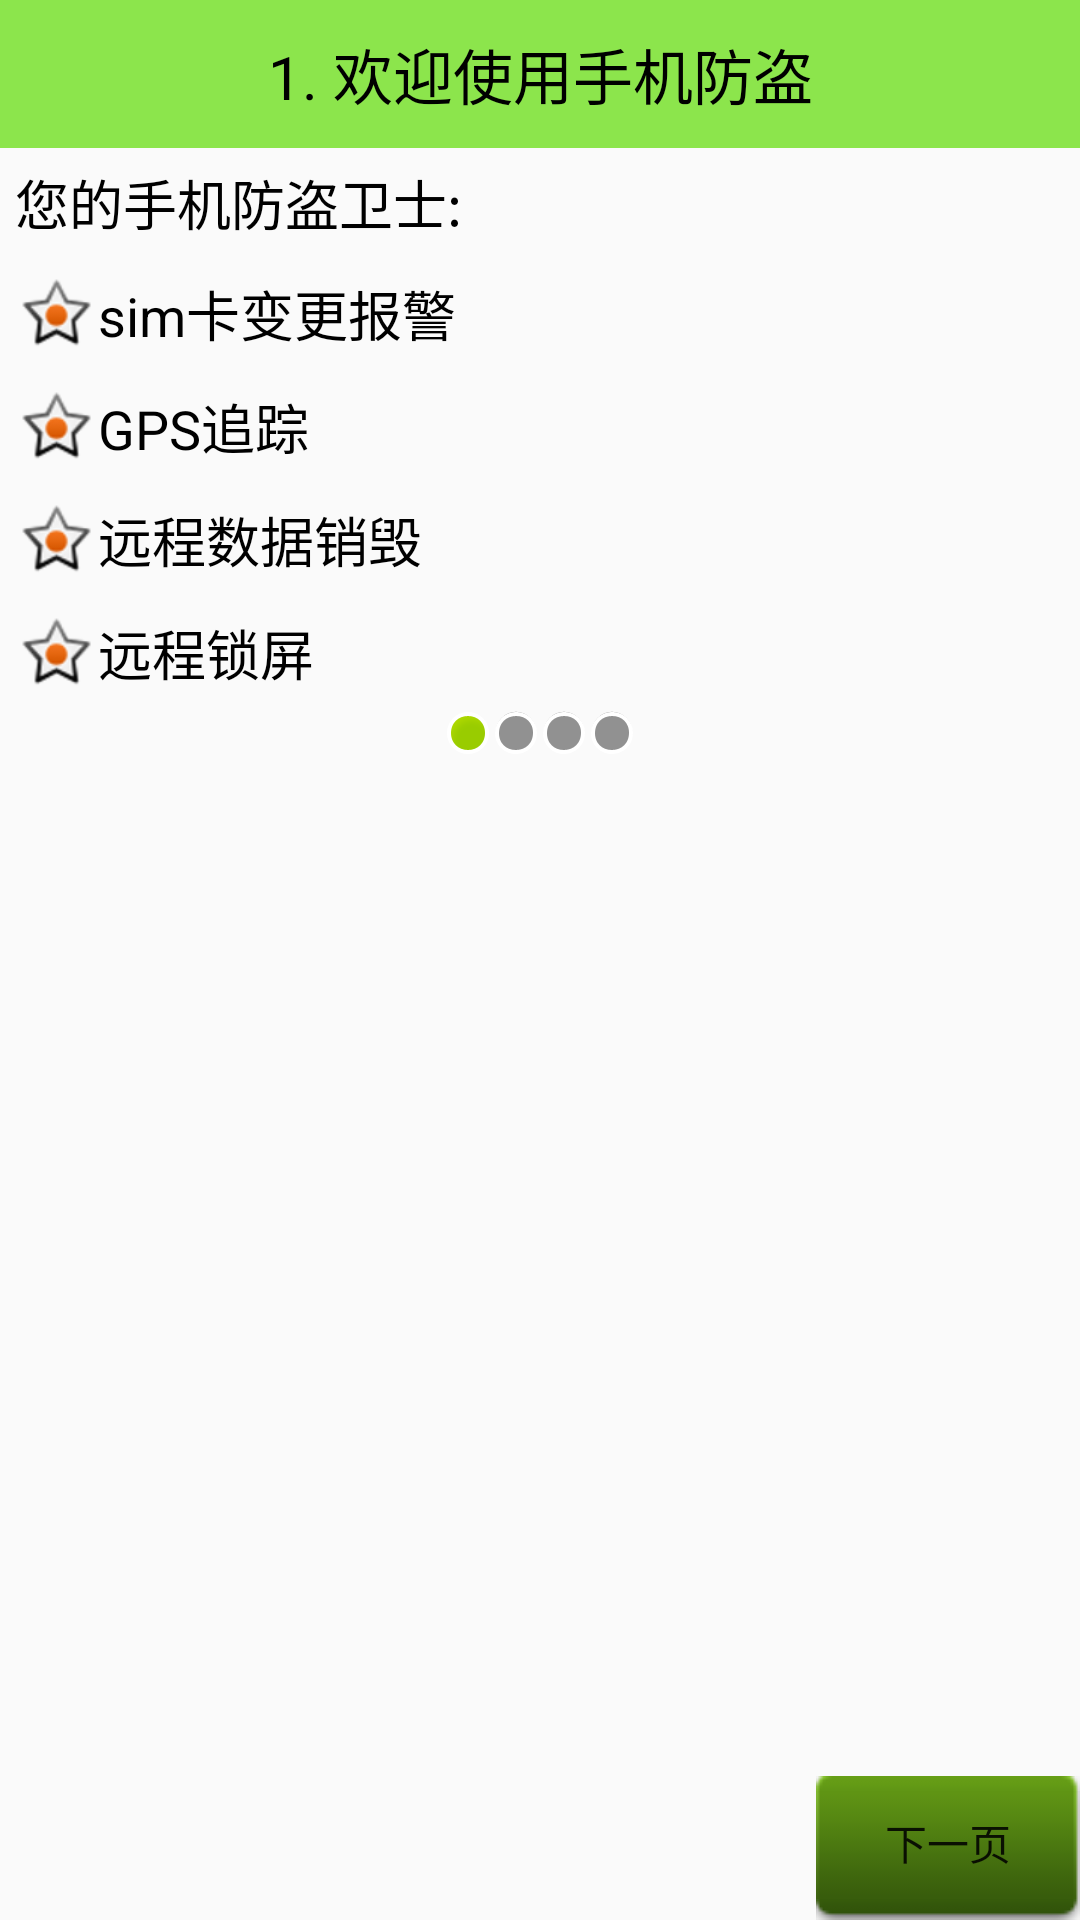

Where icons sit on this 1080px x 1920px app screen, as (x1, y1, x2, y2):
presence invisible: (499, 712, 533, 750), (547, 712, 581, 750), (595, 712, 629, 750)
presence online: (451, 716, 485, 750)
